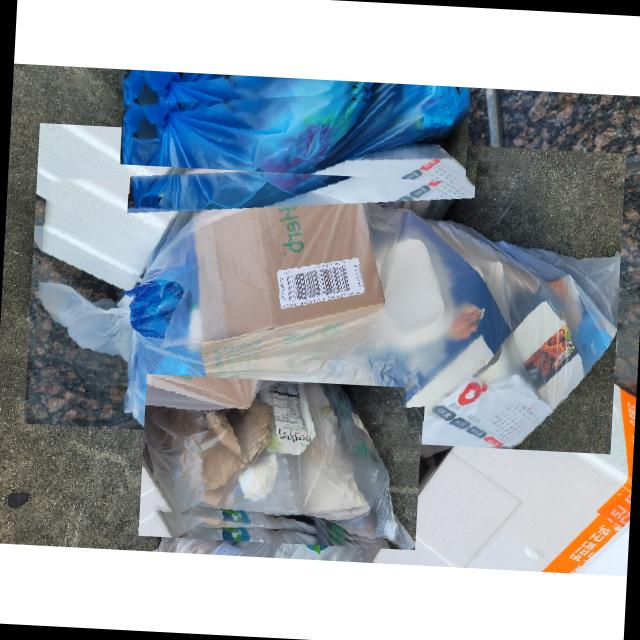other_trashbag: (36, 163, 620, 449), (142, 383, 414, 548), (121, 88, 468, 173)
